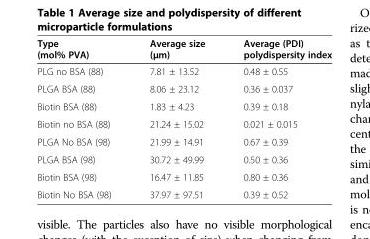table: (36, 37, 331, 199)
table column: (223, 37, 331, 199), (129, 37, 223, 199), (36, 37, 129, 199)
table column header: (36, 37, 331, 62)
table row: (36, 37, 331, 62), (36, 79, 331, 97), (36, 114, 331, 132), (36, 132, 331, 150), (36, 167, 331, 185), (36, 62, 331, 79), (36, 97, 331, 114), (36, 150, 331, 167), (36, 185, 331, 199)
